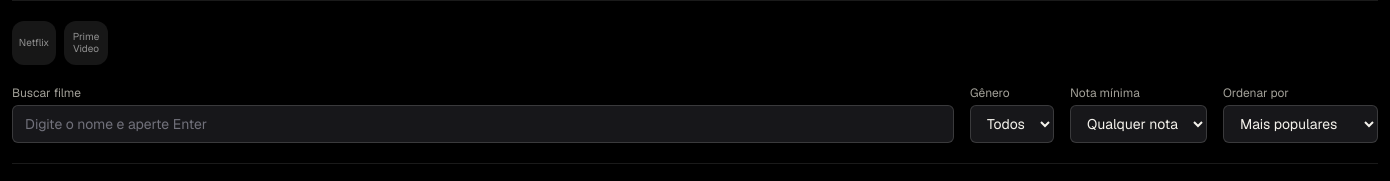
Test: mostra que está carregando até a página chegar com os novos filtros
Later steps or results of the test are not shown.
What coordinates should you click on to do the following:
click the button "Netflix"
I would click on:
 (34, 43)
Its box is [12,21,56,65].
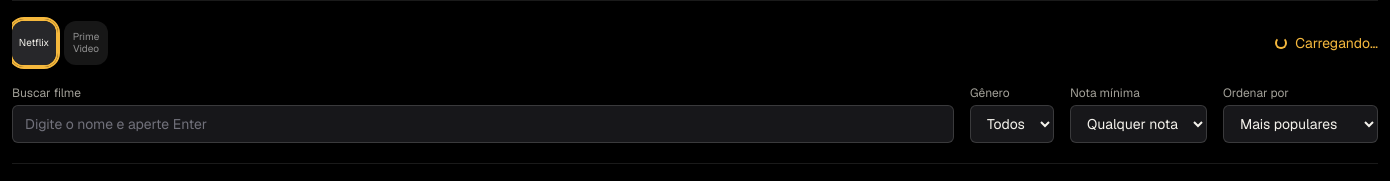
Now the text "Carregando…" is shown, box [1275,33,1378,53]
